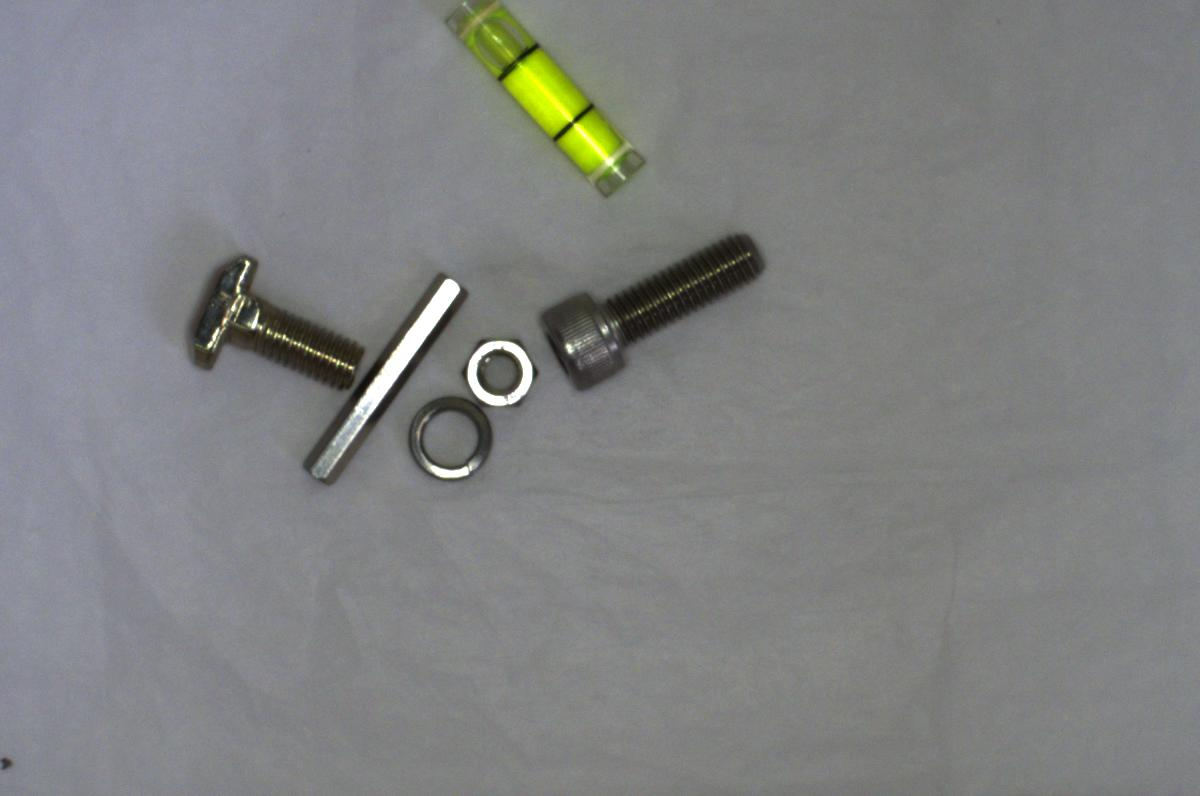Double hexagonal column: (292, 269, 467, 486)
Hexagon nut: (454, 330, 548, 408)
Horizontal bubble: (431, 0, 651, 199)
Spring washer: (404, 389, 498, 478)
T-shaped screw: (180, 249, 364, 389)
